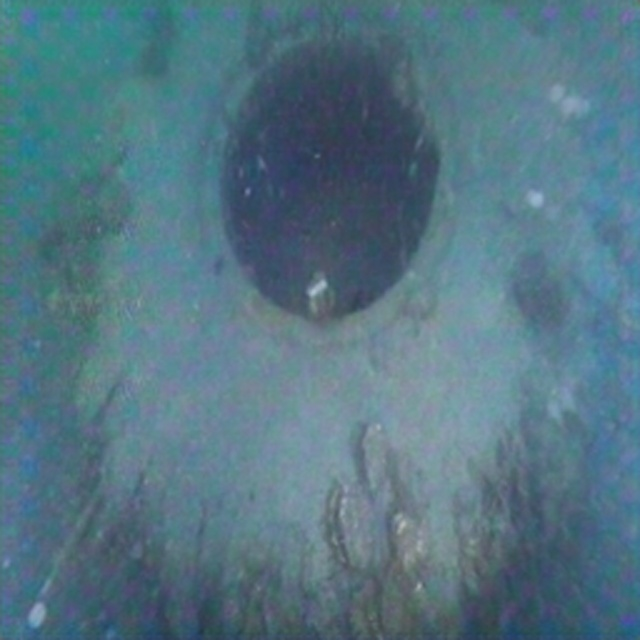mine: (77, 3, 621, 639)
